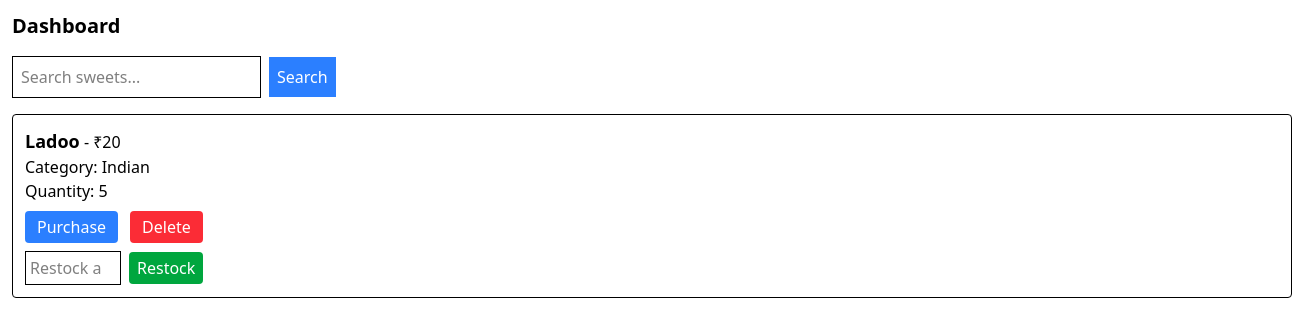
Scenario: Restock Sweet (RED) › restock increases quantity in UI
The width and height of the screenshot is (1292, 315).
Expected: the text with test id "qty-1" reads "5", [99,180,108,202]
Type "2" into the number field with test id "restock-input-1" at coordinates (73, 268), box [25,251,121,285]
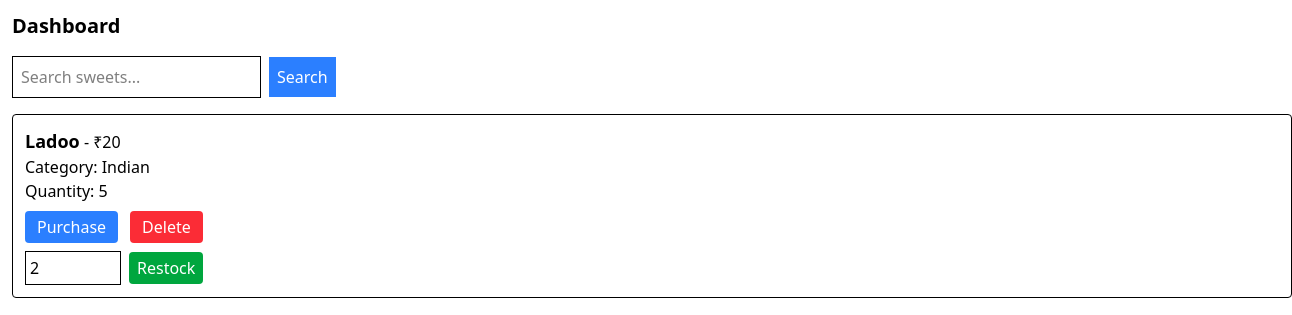
Click the button with test id "restock-btn-1" at coordinates (166, 268), box [129,252,203,284]
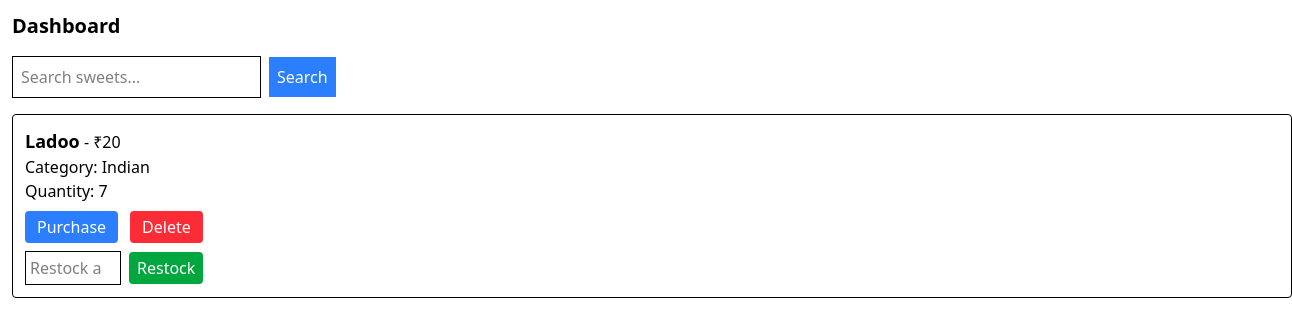
Expected: the text with test id "qty-1" reads "7", [99,180,108,202]
